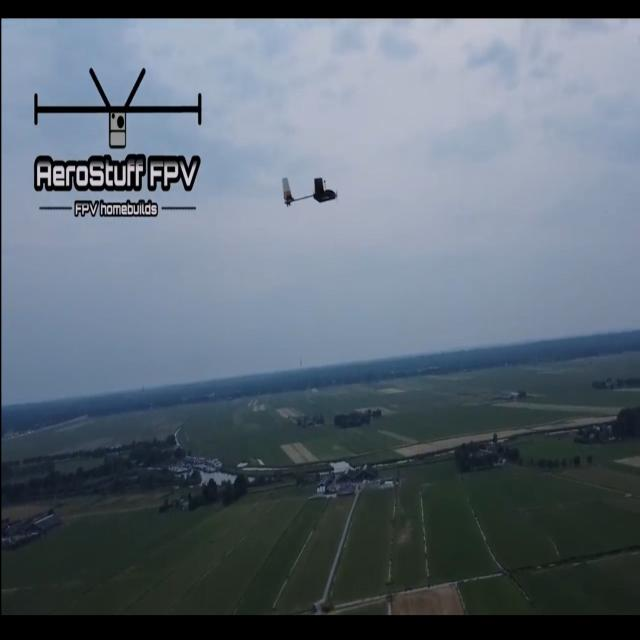iha: (280, 169, 338, 213)
